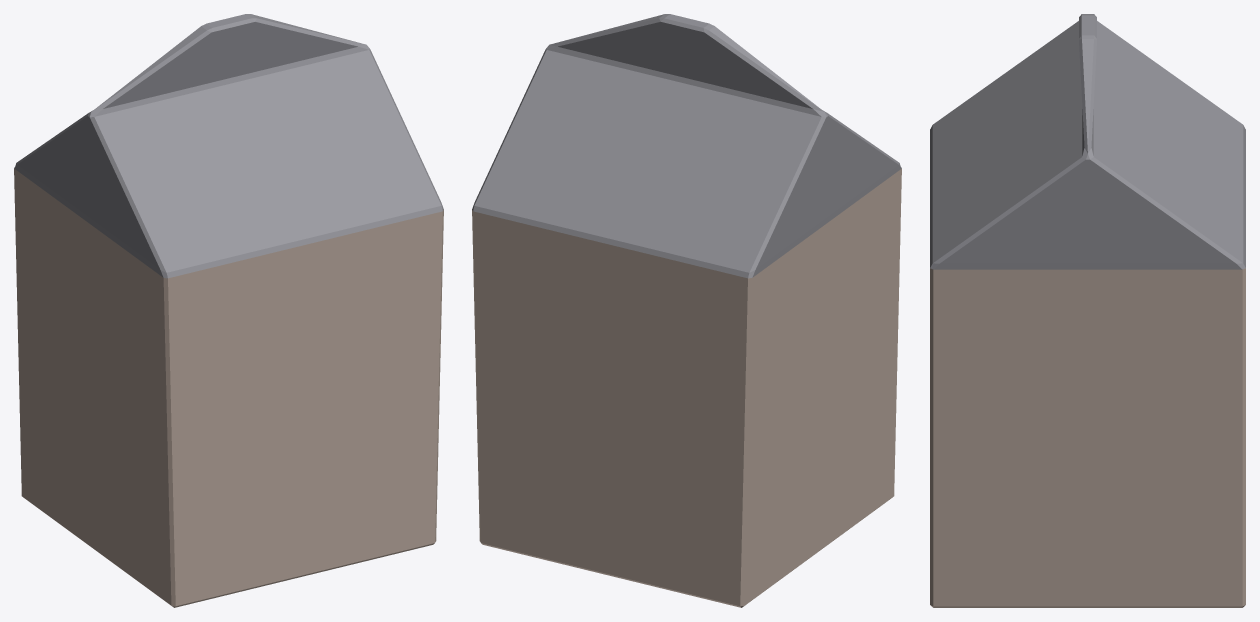
Rendered from town_terrace_3.glb.
3 views of the same model, side by side, from view 1: azimuth 30°, elevation 25°; view 2: azimuth 150°, elevation 25°; view 3: azimuth 270°, elevation 25° (orthographic). The views are drawn at different scales.
Visible parts, largest first — view 1: terrace; view 2: terrace; view 3: terrace.
Boxes of the visible parts, box(x1,y1,x2,y2) form: terrace: box(14, 14, 443, 607); terrace: box(472, 14, 901, 607); terrace: box(930, 14, 1245, 607).
Bounding box in the file's own units: 0.2756 × 0.47 × 0.26.
